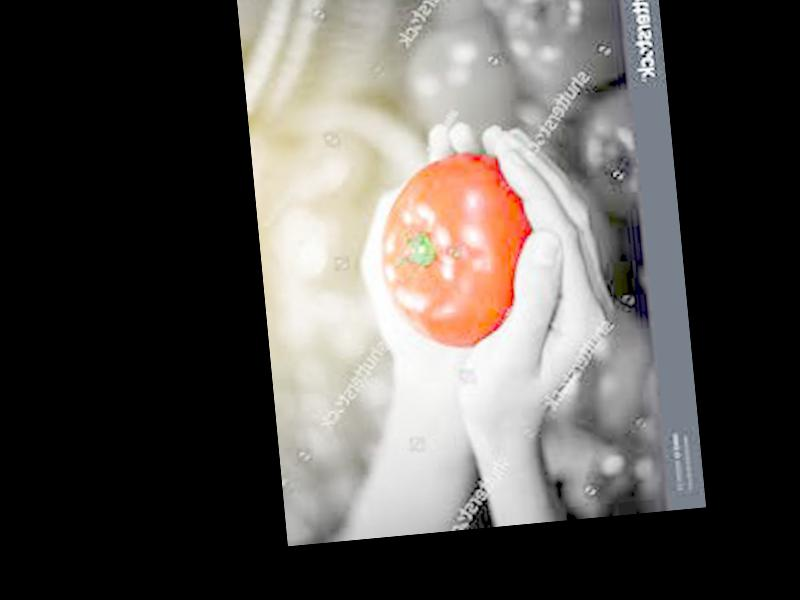Tomato: (373, 148, 541, 354)
